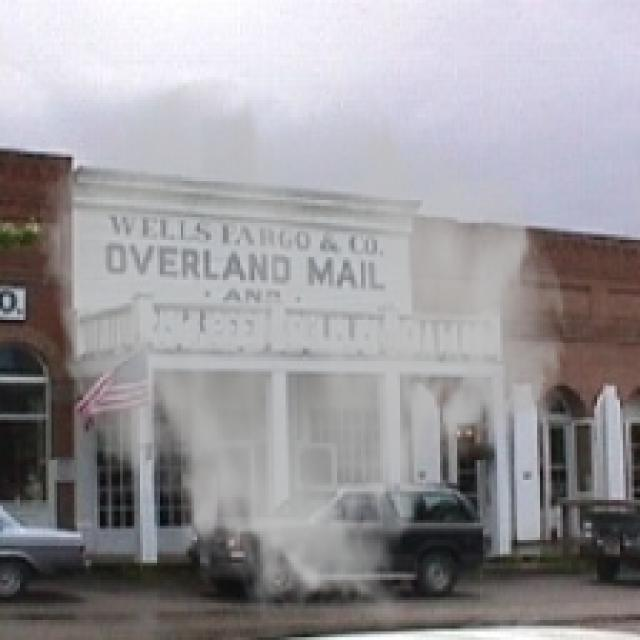Smoke: (34, 74, 572, 632)
